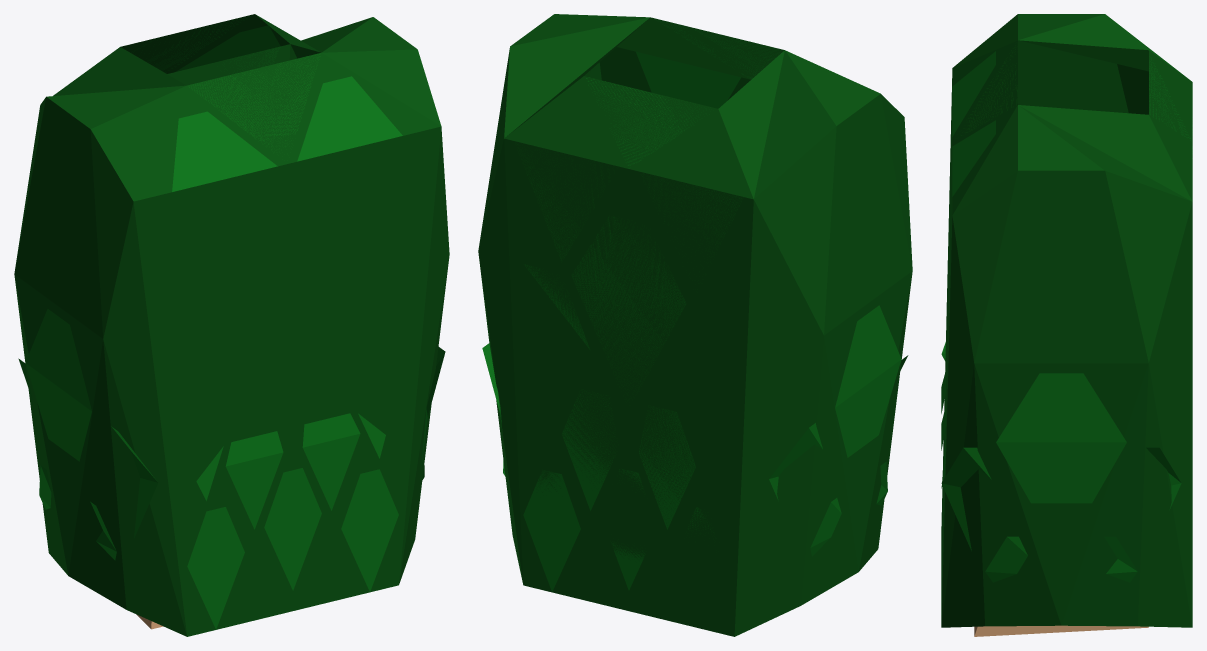
The model's file is npc_world_weapon_poison_salesman_3.obj.
3 renders of one model, left to right at view 1: azimuth 30°, elevation 25°; view 2: azimuth 150°, elevation 25°; view 3: azimuth 270°, elevation 25°, orthographic.
Size of the model in its own units: 0.2812 by 0.3984 by 0.1797.
